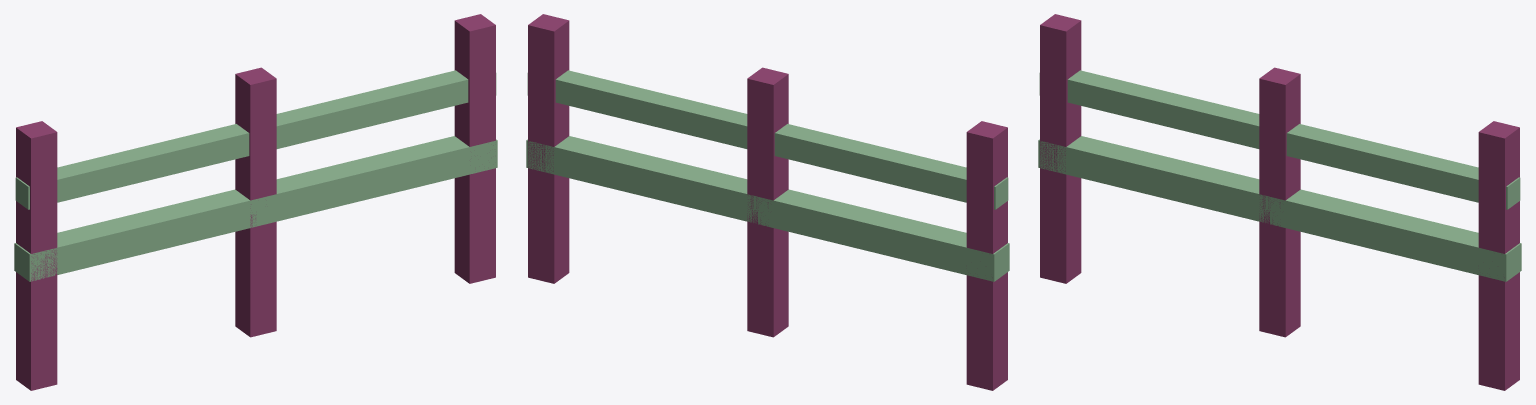
The model's file is mushroom_fence.glb.
The picture shows the model from 3 angles, left to right: view 1: azimuth 30°, elevation 25°; view 2: azimuth 150°, elevation 25°; view 3: azimuth 330°, elevation 25°; orthographic projection.
Visible parts, largest first — view 1: rail, rail_upper, post_-15, post_0, post_15; view 2: rail, rail_upper, post_15, post_0, post_-15; view 3: rail, rail_upper, post_-15, post_0, post_15.
Part boxes in pixels (box(x1,y1,x2,y2)): rail: box(14, 136, 497, 281); rail_upper: box(15, 70, 496, 209); post_-15: box(16, 121, 57, 390); post_0: box(235, 67, 276, 337); post_15: box(454, 14, 495, 283); rail: box(526, 136, 1009, 281); rail_upper: box(527, 70, 1008, 209); post_15: box(528, 14, 569, 283); post_0: box(747, 67, 788, 337); post_-15: box(966, 121, 1007, 390); rail: box(1038, 136, 1521, 281); rail_upper: box(1039, 70, 1520, 209); post_-15: box(1040, 14, 1081, 283); post_0: box(1259, 67, 1300, 337); post_15: box(1478, 121, 1519, 390).
Size of what is drawn, in the model's own units: 3.2 by 1.65 by 0.18.
